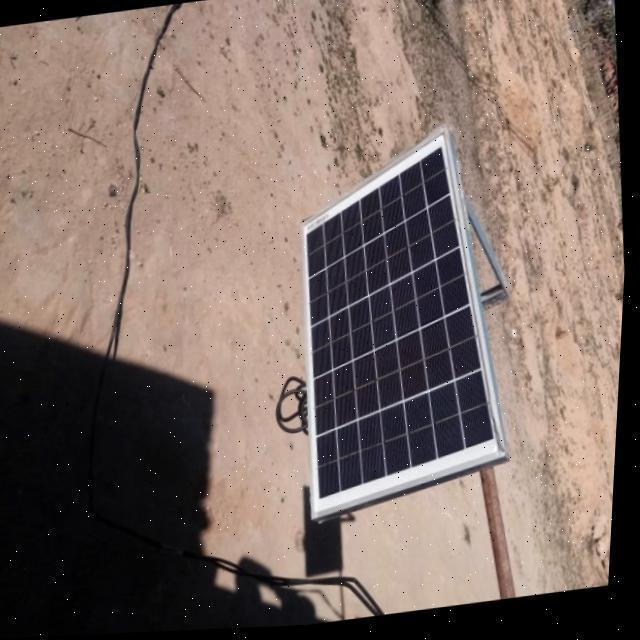Normal Solar Panel: (285, 128, 523, 523)
